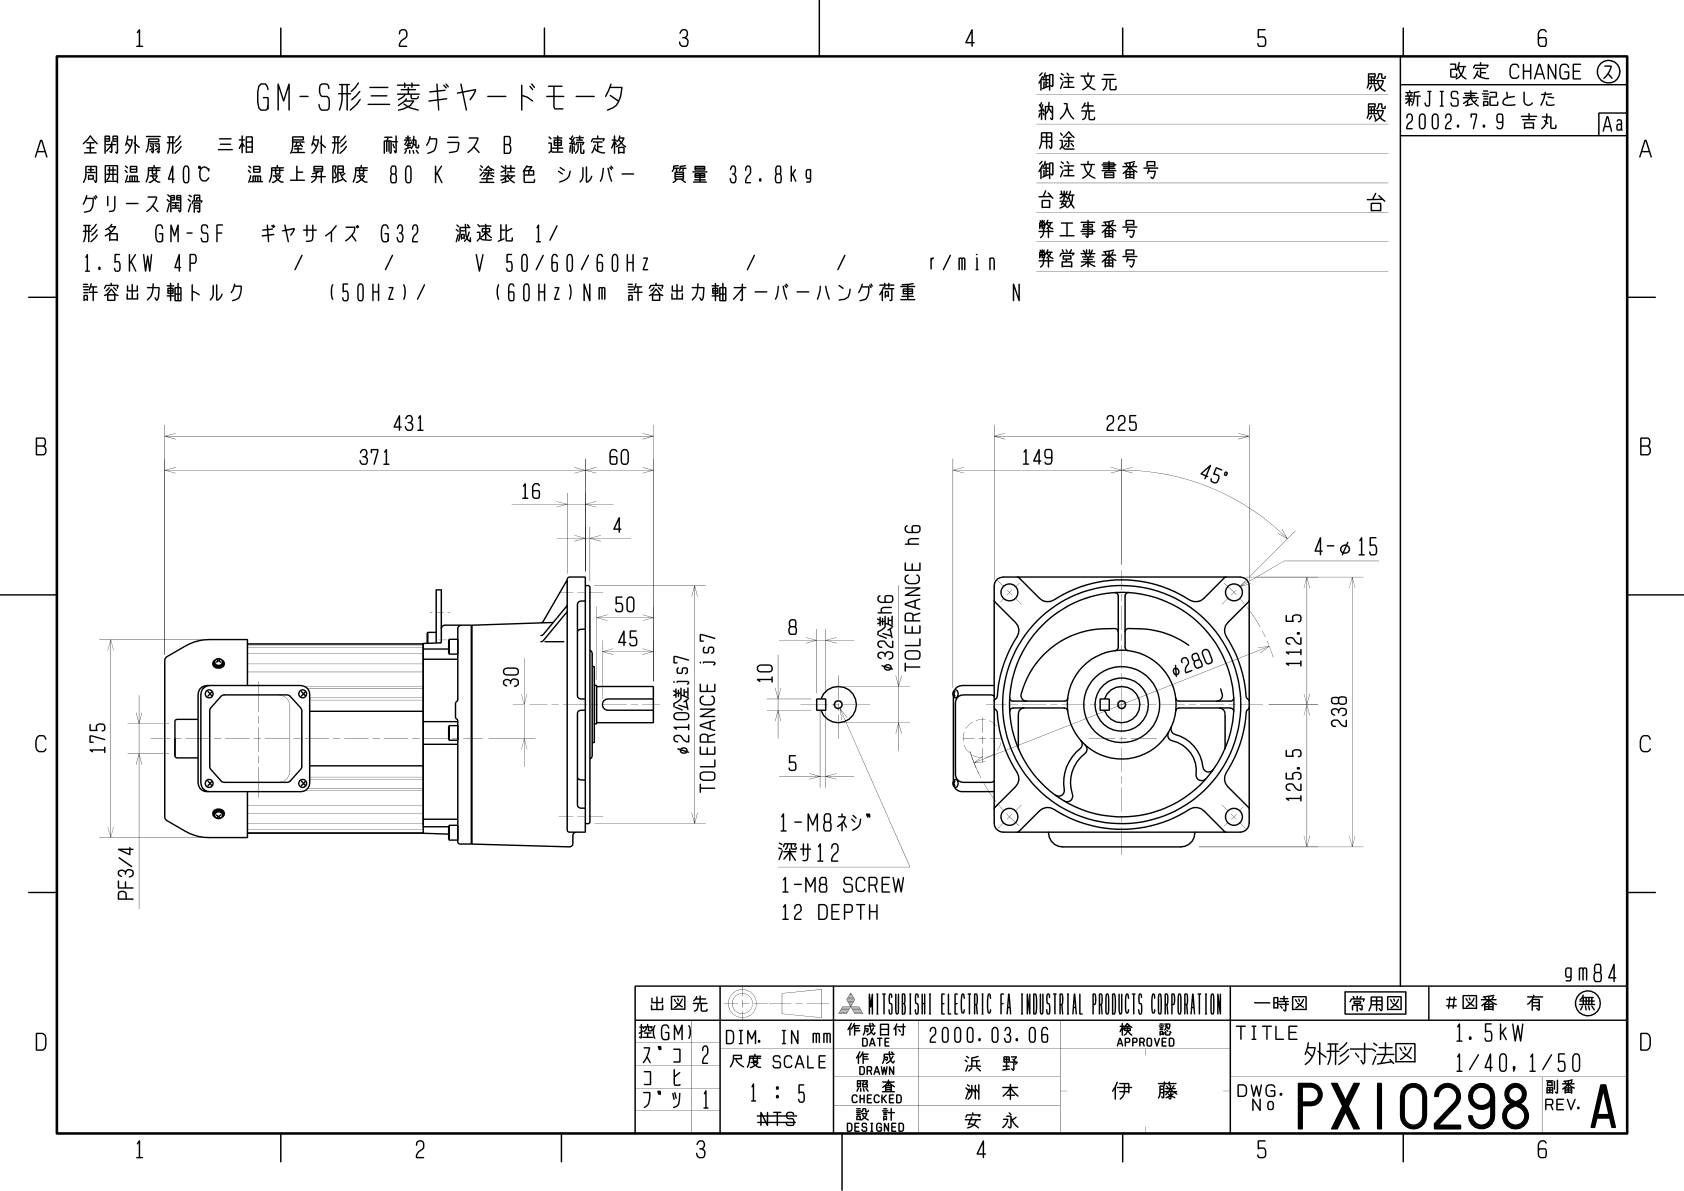GM_S_屋外＿三相_フランジ: (8, 3, 1684, 1169)
